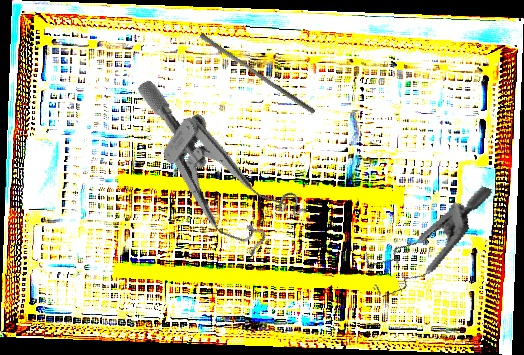Pusher: (196, 32, 319, 115)
Speculum: (94, 76, 321, 270), (354, 157, 493, 320)
